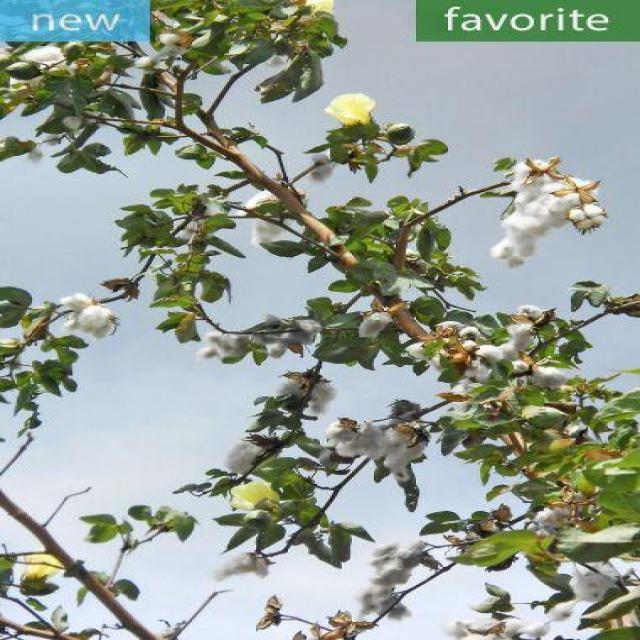Late_blight: (489, 156, 609, 275), (322, 415, 438, 473), (55, 289, 122, 341), (16, 45, 84, 77), (356, 312, 398, 343), (475, 345, 500, 363)
